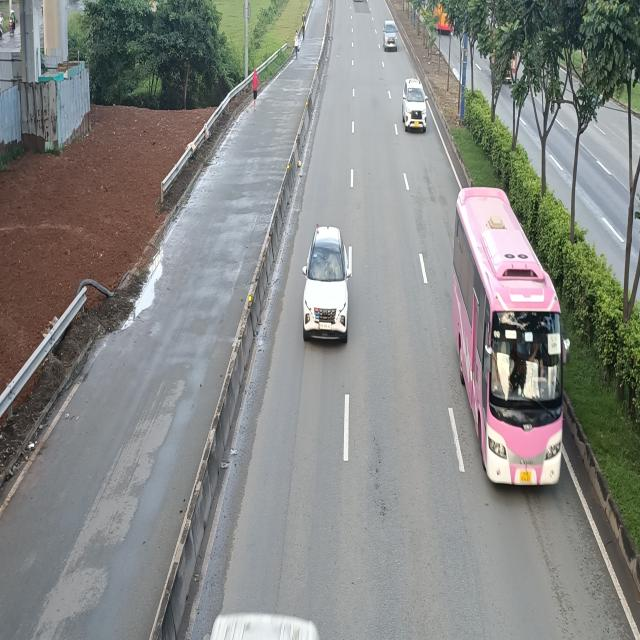car: (304, 226, 354, 346), (403, 80, 428, 132), (384, 20, 398, 51)
coach: (452, 193, 572, 494)
